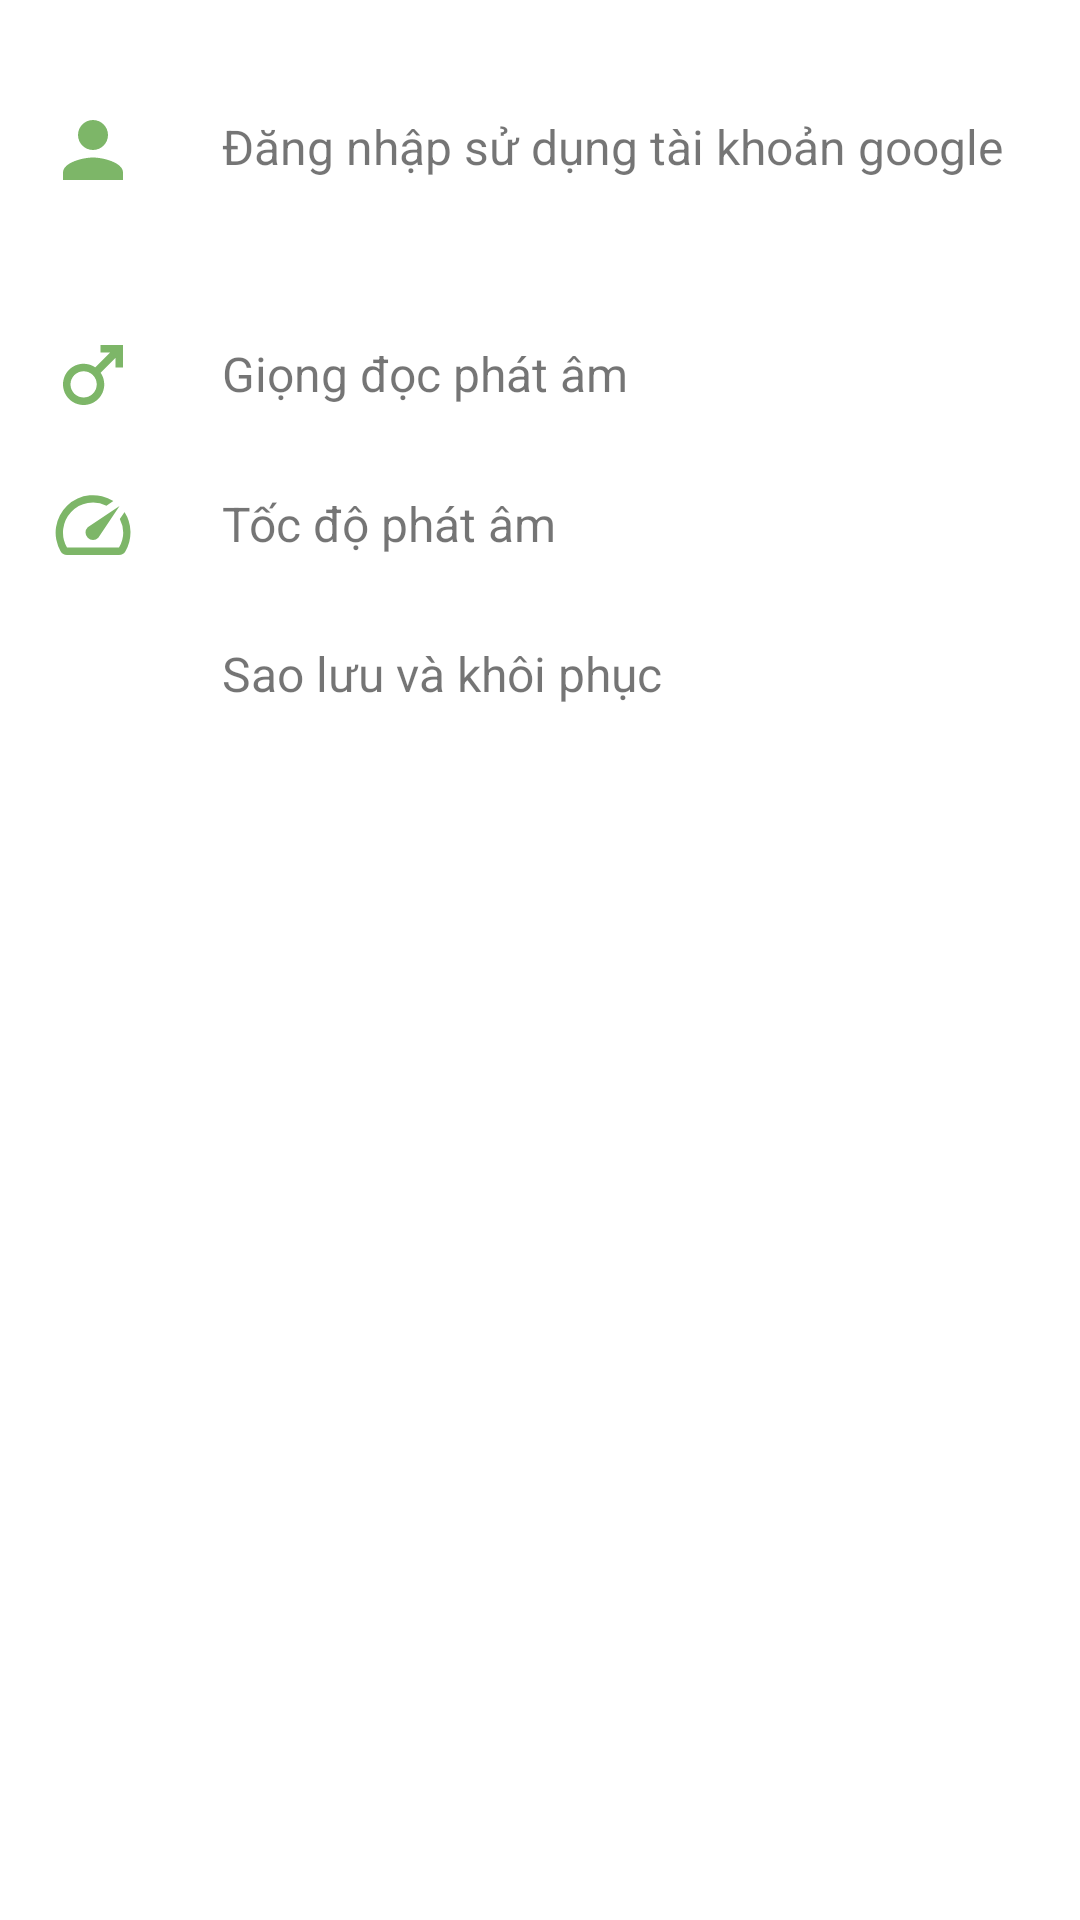

Named icons in this screenshot (1080px×1920px) and their bounding boxes, region(x1, y1, x2, y2):
male: region(63, 345, 123, 405)
person: region(63, 120, 123, 180)
speed: region(55, 495, 131, 555)
